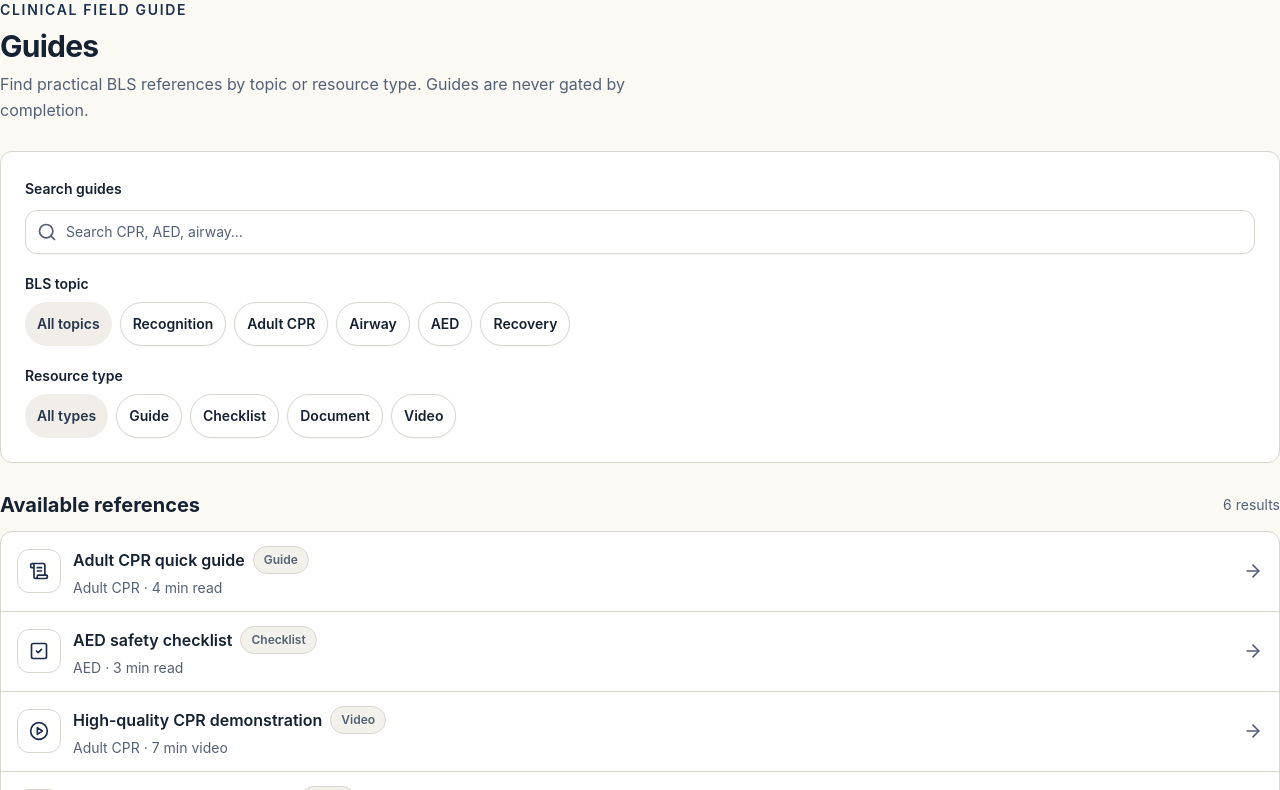
Test: GuidesPage › filters the fictional clinical references by search term
Expected: the heading "Available references" is shown, x1=0 y1=491 x2=200 y2=519
Expected: the link "Adult CPR quick guide Guide Adult CPR · 4 min read" is shown, x1=1 y1=532 x2=1279 y2=612
In the search field labelled "Search guides": (640, 232) x1=25 y1=210 x2=1255 y2=254, type "AED"
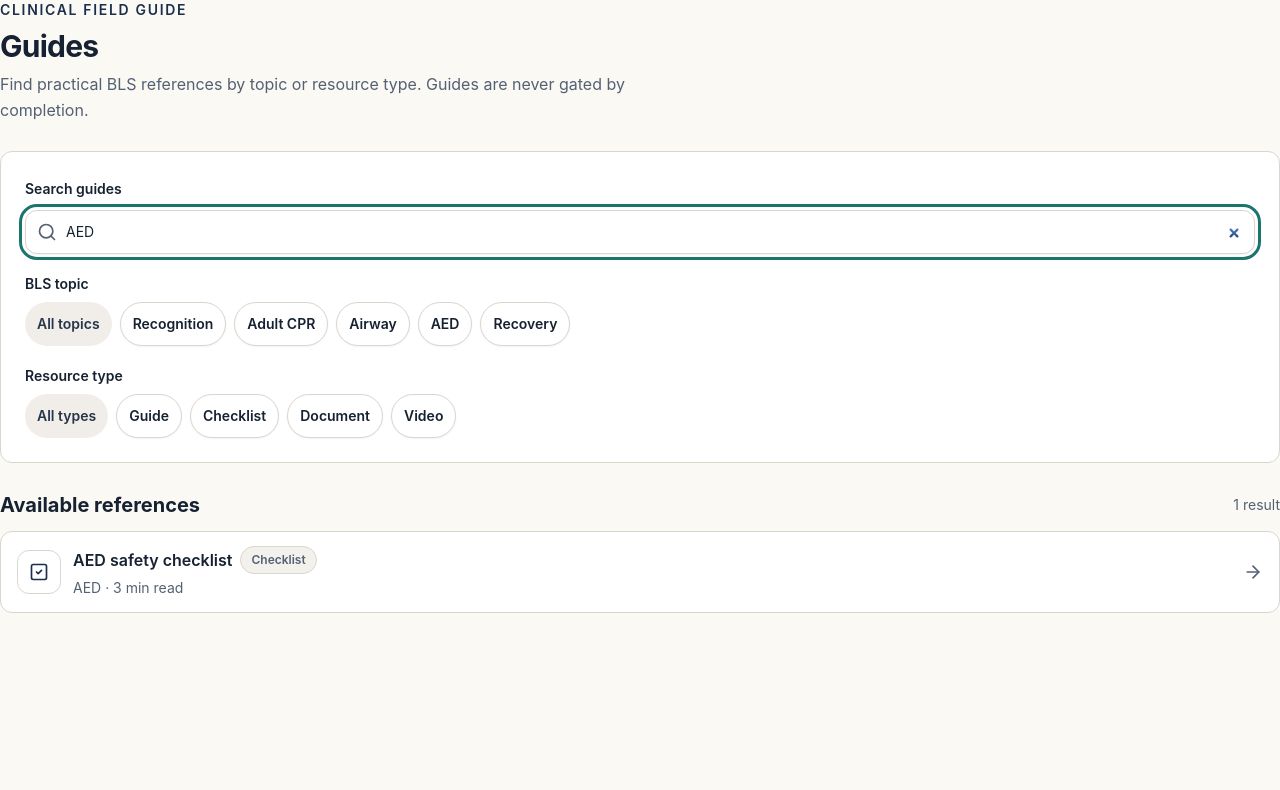
Expected: the link "AED safety checklist Checklist AED · 3 min read" is shown, x1=1 y1=532 x2=1279 y2=612
Result: the link "Adult CPR quick guide" is gone
Result: the text "1 result" is shown at x1=1233 y1=495 x2=1279 y2=515
